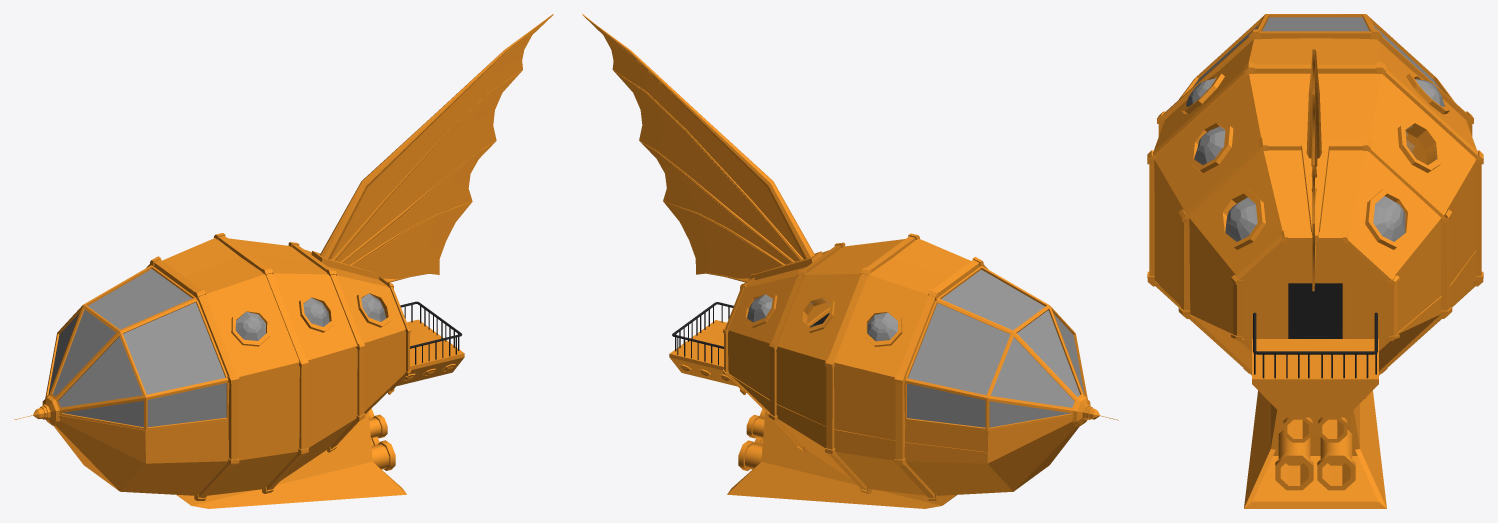
Rendered from nave_sola.FBX.
3 renders of one model, left to right at view 1: azimuth 30°, elevation 25°; view 2: azimuth 150°, elevation 25°; view 3: azimuth 270°, elevation 25°, orthographic. The views are drawn at different scales.
Parts seen in each view (by area): view 1: Nave_espacial, Aleta, Vidrio_Nave, Estructura_cabina, cupulas; view 2: Nave_espacial, Aleta, Vidrio_Nave, Estructura_cabina, cupulas; view 3: Nave_espacial, cupulas, Vidrio_Nave, Aleta, Puerta_6, Puerta_5, Estructura_cabina.
Boxes of the visible parts, box(x1,y1,x2,y2) form: Nave_espacial: box(53, 233, 464, 508); Aleta: box(320, 14, 553, 282); Vidrio_Nave: box(48, 269, 226, 427); Estructura_cabina: box(14, 265, 229, 430); cupulas: box(235, 293, 386, 340); Nave_espacial: box(669, 233, 1079, 508); Aleta: box(582, 14, 814, 282); Vidrio_Nave: box(907, 269, 1084, 427); Estructura_cabina: box(904, 266, 1118, 431); cupulas: box(747, 294, 897, 341); Nave_espacial: box(1147, 29, 1483, 508); cupulas: box(1186, 78, 1444, 241); Vidrio_Nave: box(1193, 17, 1440, 89); Aleta: box(1306, 49, 1321, 291); Puerta_6: box(1288, 283, 1316, 338); Puerta_5: box(1316, 283, 1342, 338); Estructura_cabina: box(1179, 14, 1454, 101).
Bounding box in the file's own units: 3169 × 2362 × 1254.
